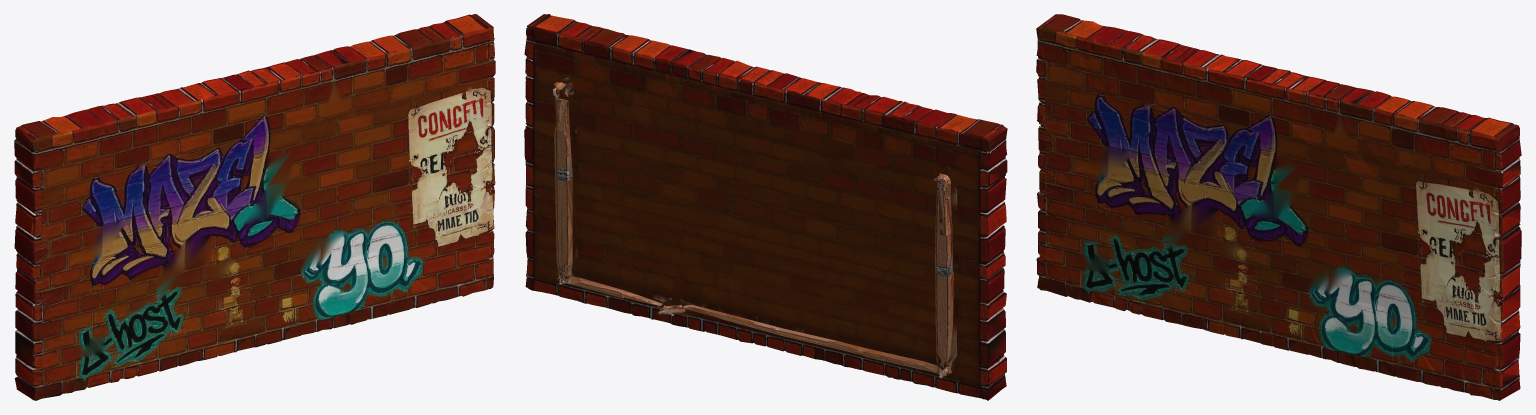
File: mur_tag.glb
The picture shows the model from 3 angles, left to right: view 1: azimuth 30°, elevation 25°; view 2: azimuth 150°, elevation 25°; view 3: azimuth 330°, elevation 25°; orthographic projection.
Visible parts, largest first — view 1: world; view 2: world; view 3: world.
Boxes of the visible parts, bbox=[...] form: world: bbox=[14, 14, 495, 400]; world: bbox=[524, 14, 1007, 400]; world: bbox=[1036, 14, 1521, 400].
Bounding box in the file's own units: 1.75 × 0.9531 × 0.2241.
1 material, 1 textured.
